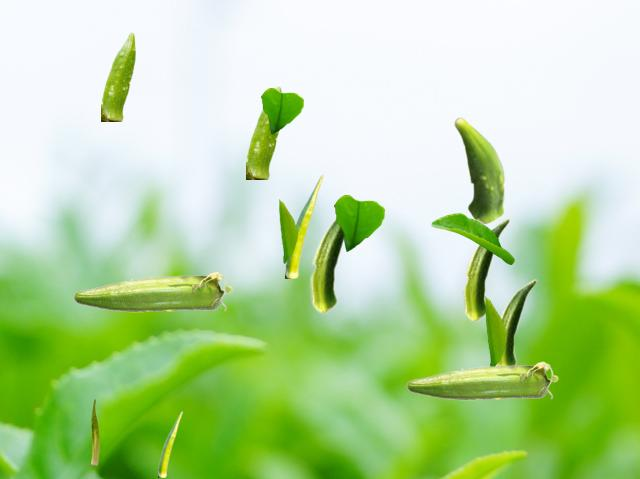okra: (73, 271, 231, 311), (406, 361, 557, 399), (453, 116, 505, 224), (462, 218, 509, 321), (285, 174, 322, 277), (246, 85, 282, 178), (309, 218, 344, 313), (498, 279, 536, 364), (101, 31, 135, 120), (158, 411, 181, 476), (91, 399, 98, 464)
